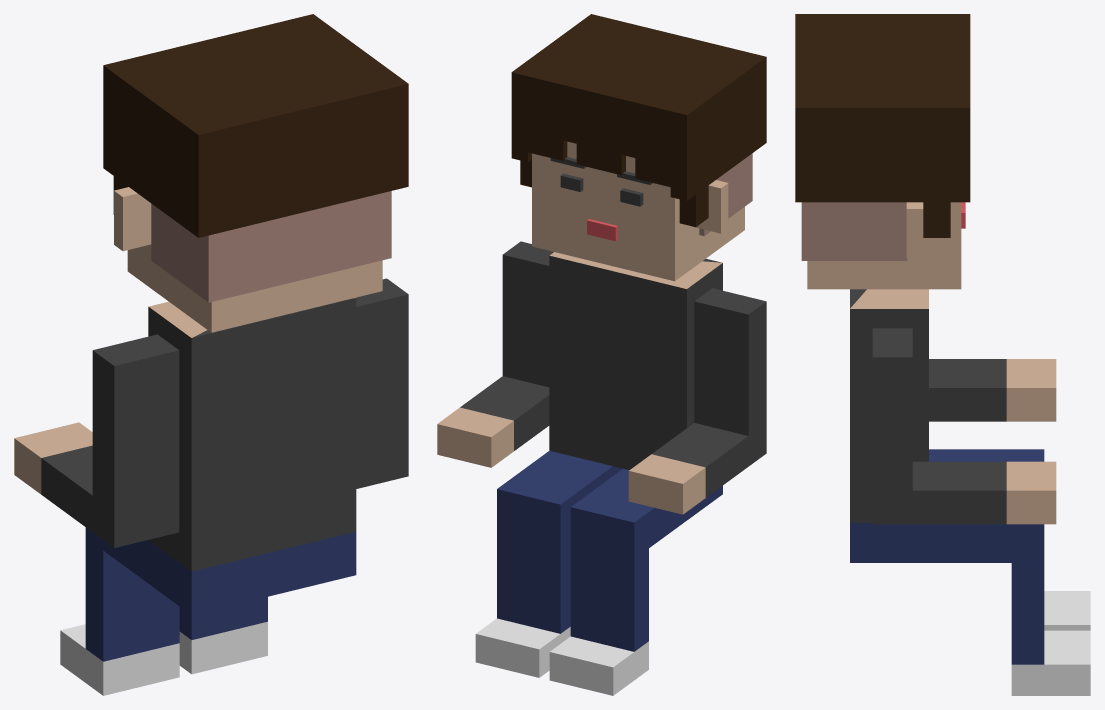
File: customerSit1-1.fbx
3 views of the same model, side by side, from view 1: azimuth 30°, elevation 25°; view 2: azimuth 150°, elevation 25°; view 3: azimuth 270°, elevation 25° (orthographic). The views are drawn at different scales.
Visible parts, largest first — view 1: customerSit; view 2: customerSit; view 3: customerSit.
Boxes of the visible parts, x1,y1,x2,y2 form: customerSit: (14, 14, 408, 695); customerSit: (437, 14, 766, 695); customerSit: (795, 14, 1090, 695).
Bounding box in the file's own units: 26.21 × 55.56 × 24.85.
